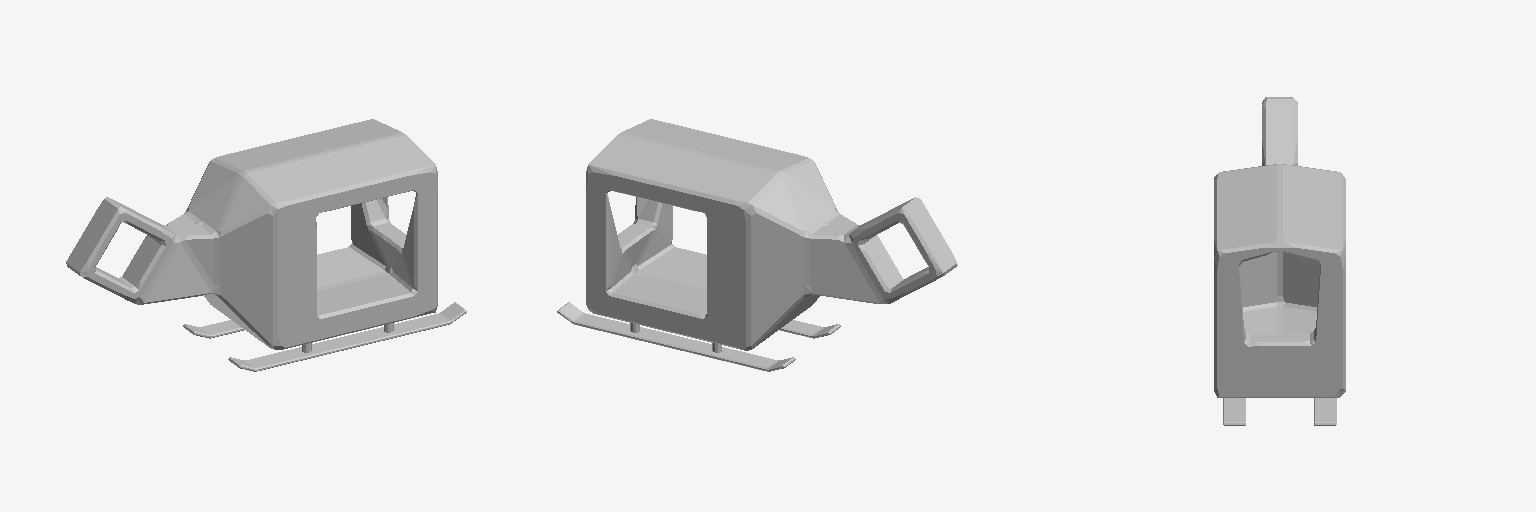
The model's file is helicopter.obj.
3 views of the same model, side by side, from view 1: azimuth 30°, elevation 25°; view 2: azimuth 150°, elevation 25°; view 3: azimuth 270°, elevation 25° (orthographic).
Parts seen in each view (by area): view 1: Cylinder.001; view 2: Cylinder.001; view 3: Cylinder.001.
Boxes of the visible parts, x1=… form: Cylinder.001: x1=66, y1=119, x2=466, y2=371; Cylinder.001: x1=557, y1=119, x2=957, y2=371; Cylinder.001: x1=1214, y1=97, x2=1345, y2=425.
Size of the model in its own units: 14.98 by 6.93 by 4.67.